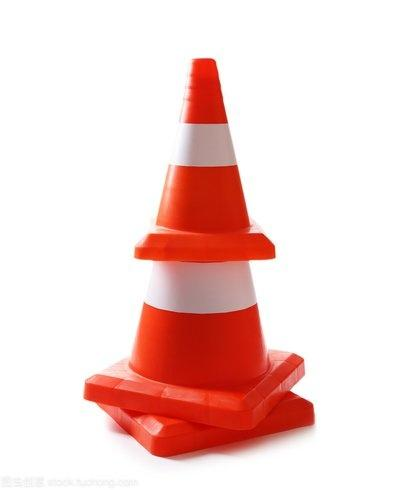cone_barrel: (118, 52, 281, 406)
